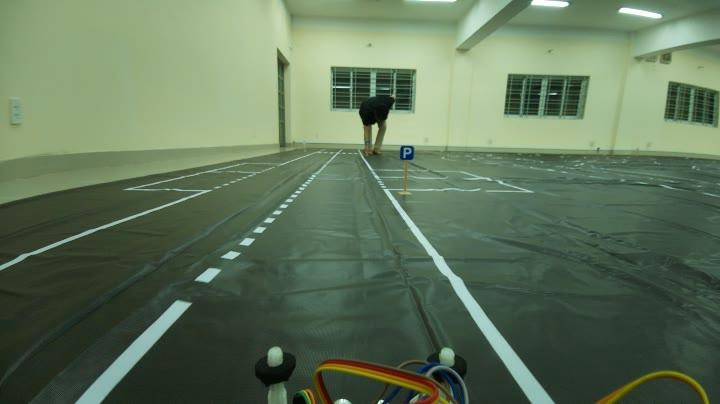parking: (396, 140, 420, 162)
